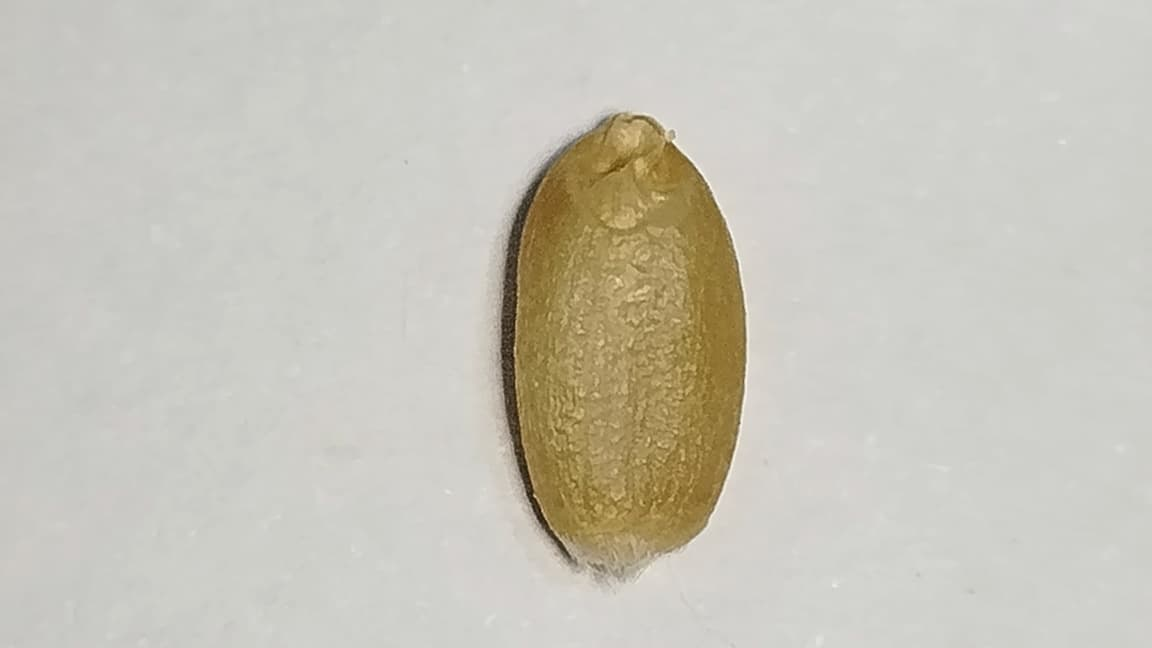healthy: (513, 113, 744, 570)
